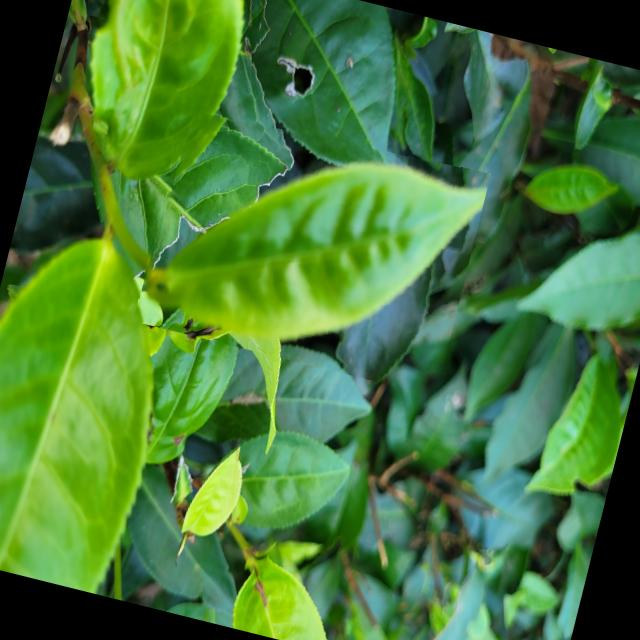Catagory A(1-2 days): (130, 97, 490, 396)
